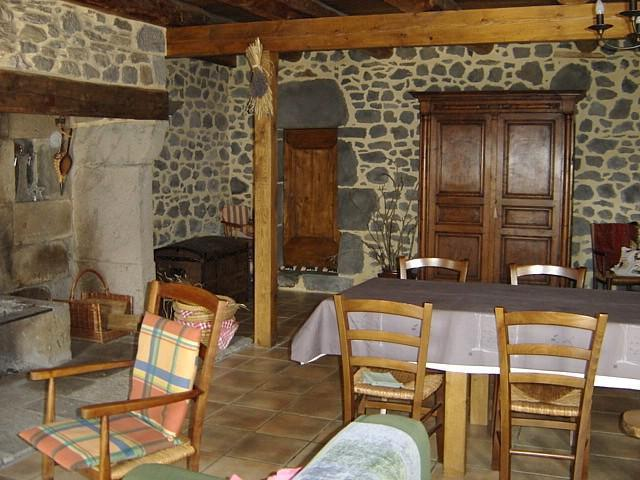Armario: (424, 91, 571, 261)
Otro Obstaculo: (172, 231, 252, 308)
